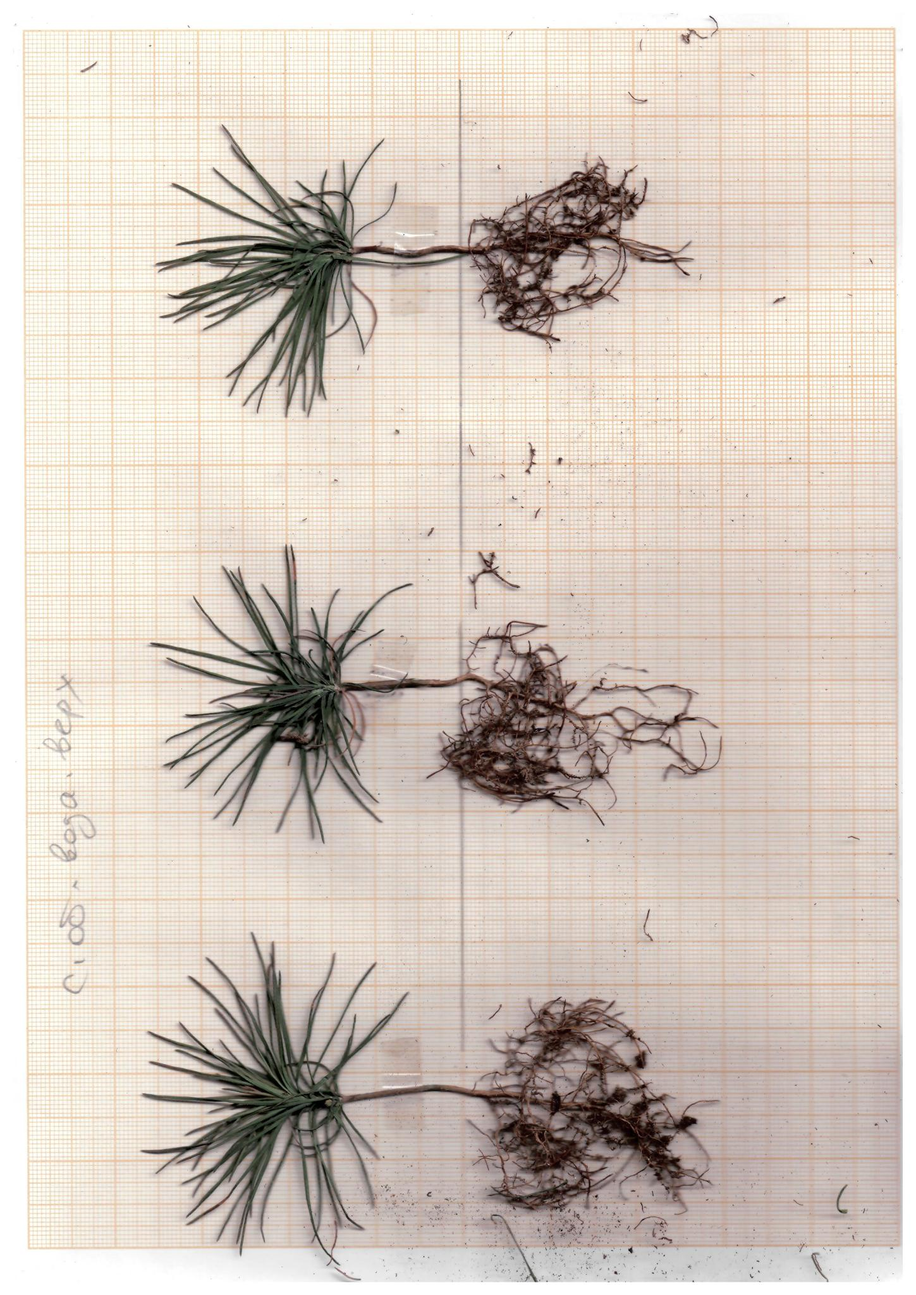Seeding: (132, 924, 721, 1272), (142, 535, 729, 849), (137, 116, 702, 423)
